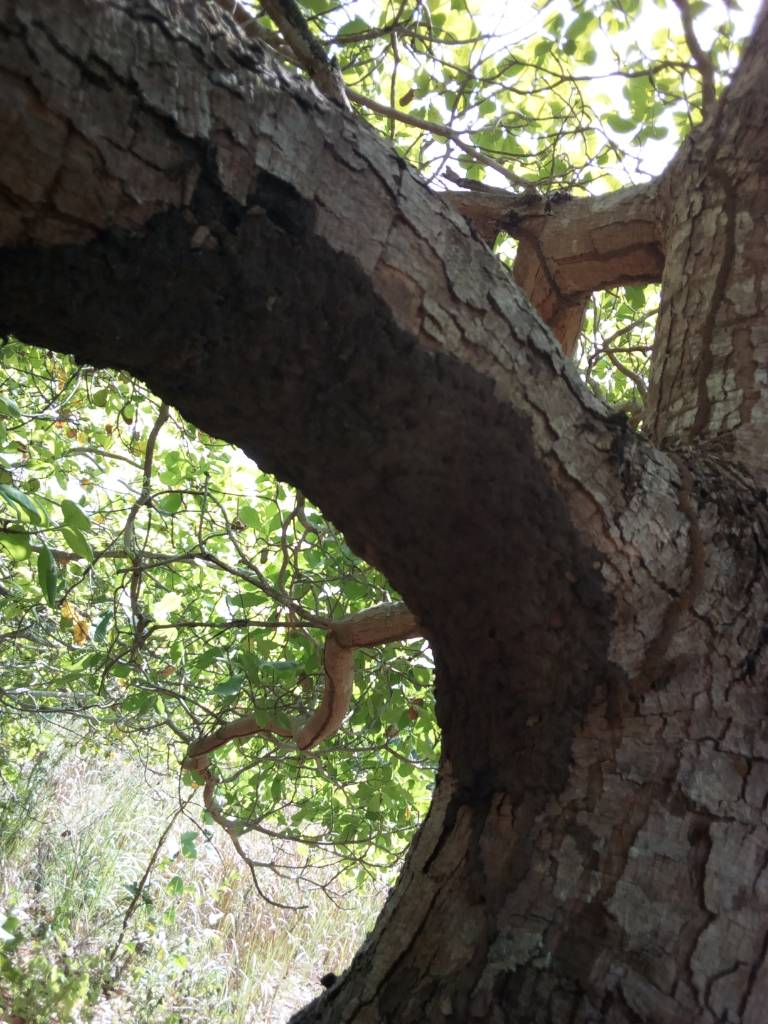Termites: (421, 452, 597, 760), (196, 203, 397, 450), (15, 238, 190, 355)
